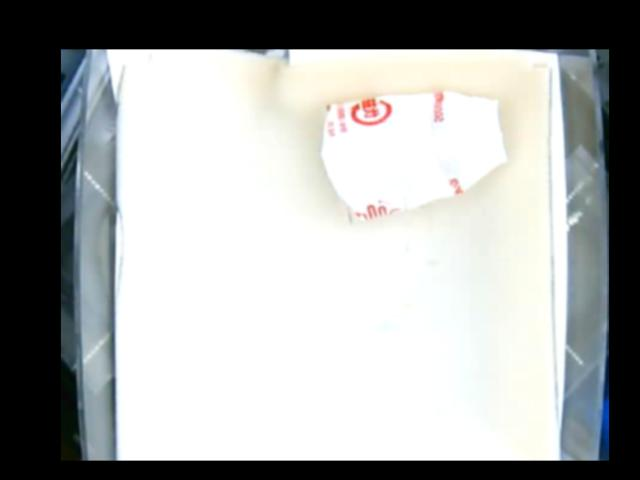Bottle: (321, 89, 504, 221)
